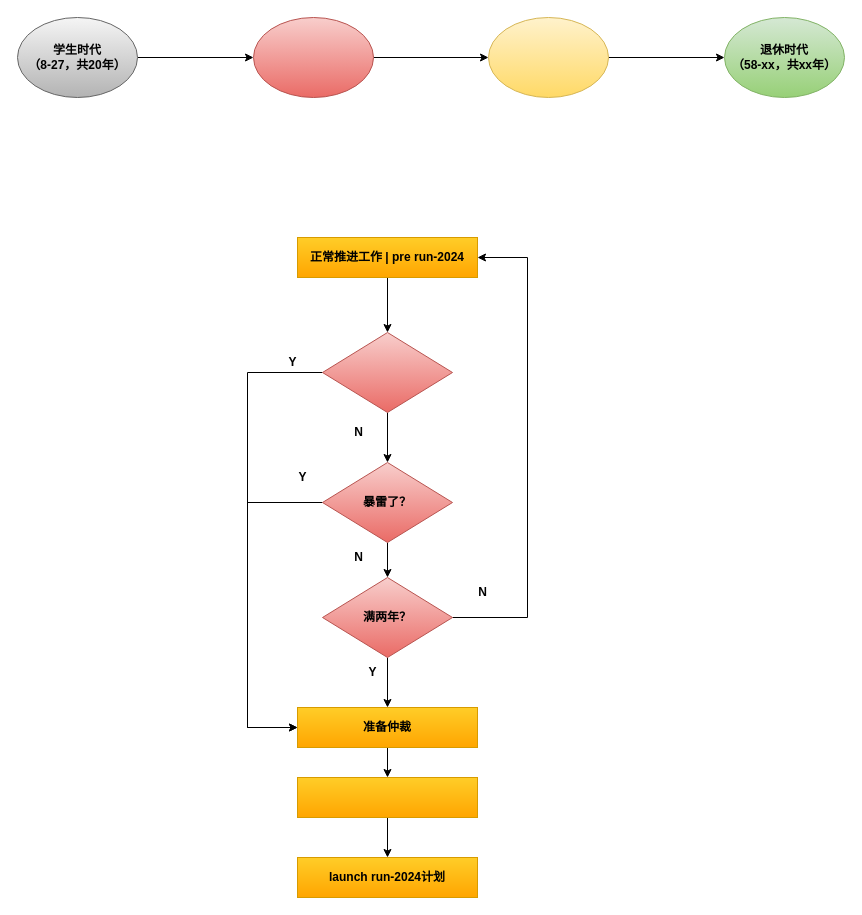
Some shapes in this 862 by 915 pixel diagram are drawn without their labels. The centre of each missing label's shape, as x and y in pixels:
"公司裁员了？" goes at [387,372].
"工作时代 （27-43，共15年）" goes at [313,57].
"离职" goes at [387,797].
"隐居时代 （43-58，共15年）" goes at [548,57].
